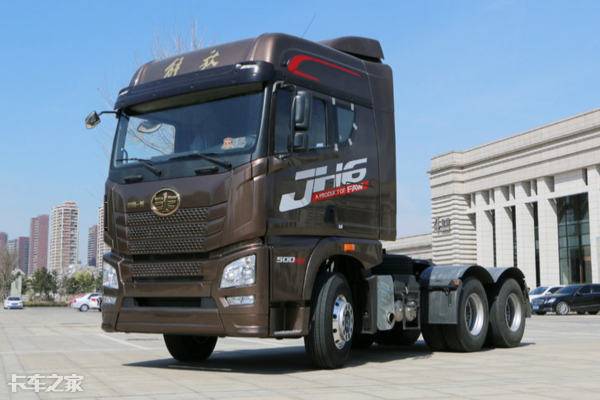卡车: (78, 28, 542, 372)
